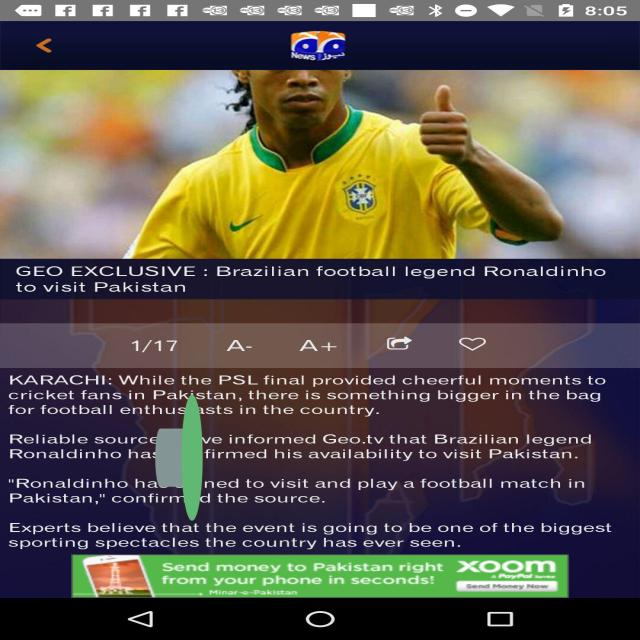social proof: (155, 317, 203, 598)
